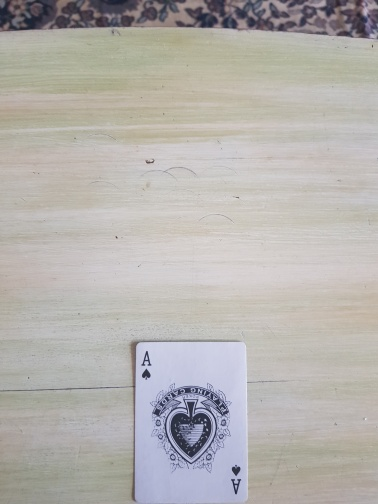ace: (133, 339, 248, 503)
